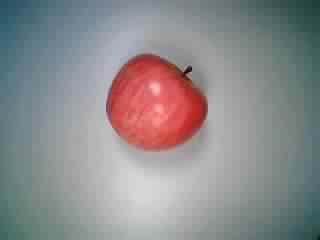apple: (103, 52, 208, 154)
